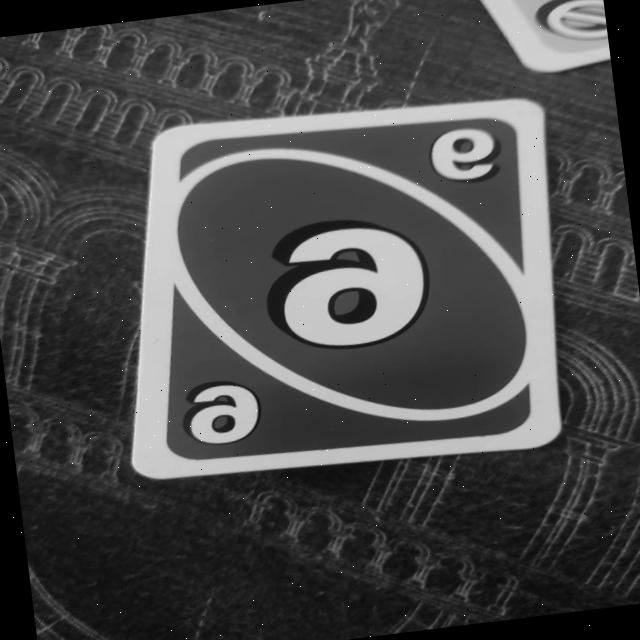card_6: (89, 80, 586, 498)
skip_card: (476, 0, 610, 78)
